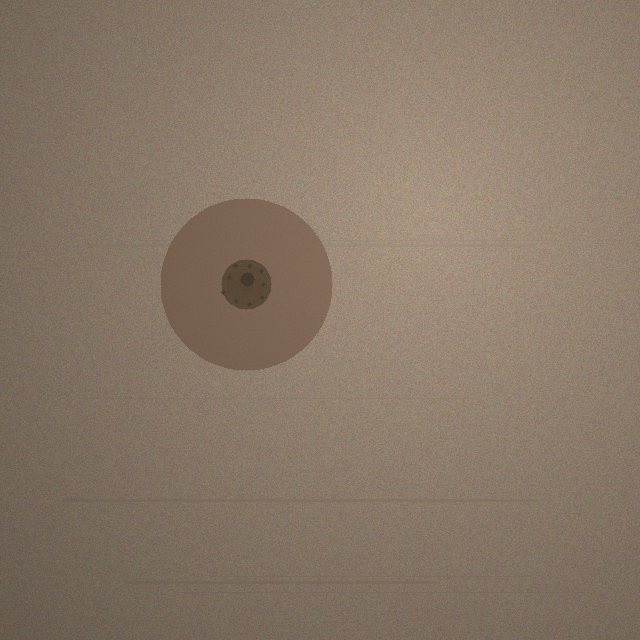cold_weld: (160, 198, 332, 370)
